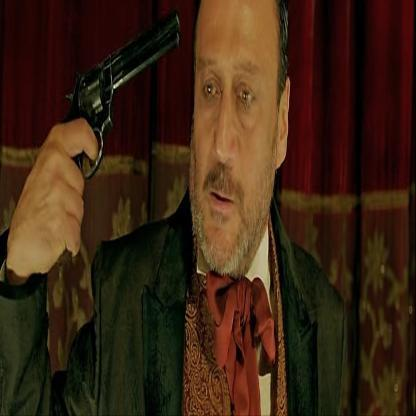gun: (55, 9, 189, 137)
